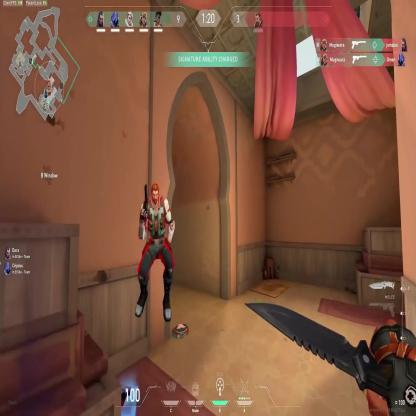enemy: (136, 184, 172, 322)
enemy_head: (149, 181, 160, 207)
